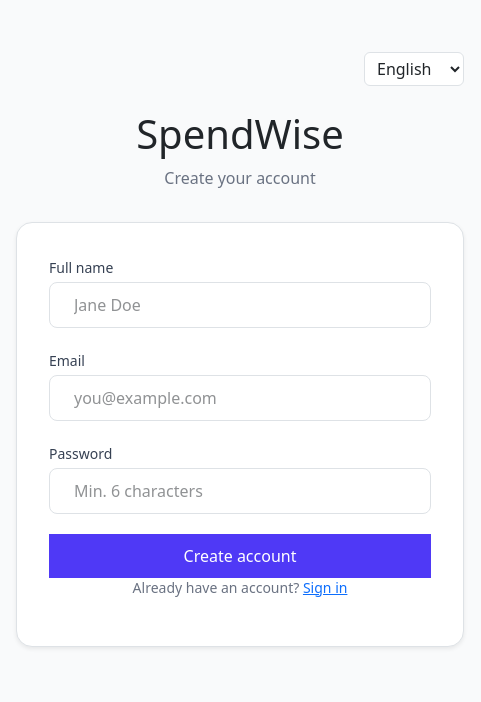
Test: RegisterPage › shows the success notice and schedules the redirect on success
Type "Jane" into the field with placeholder "Jane Doe" at (240, 304), box [49,282,431,328]
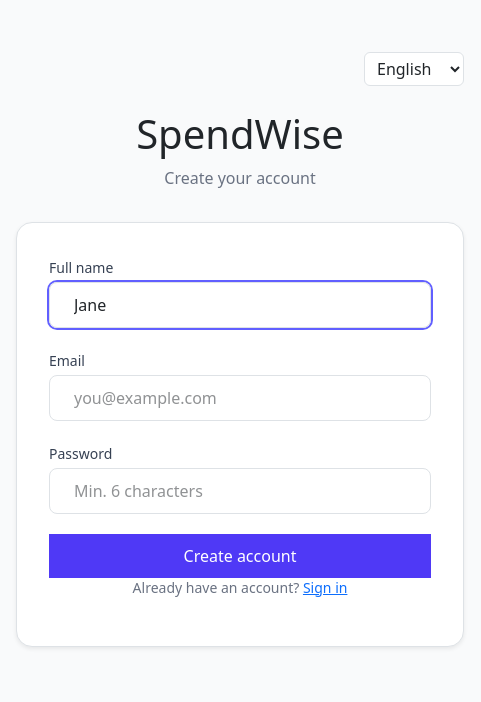
Type "a@b.com" into the field with placeholder "you@example.com" at (240, 398), box [49,374,431,420]
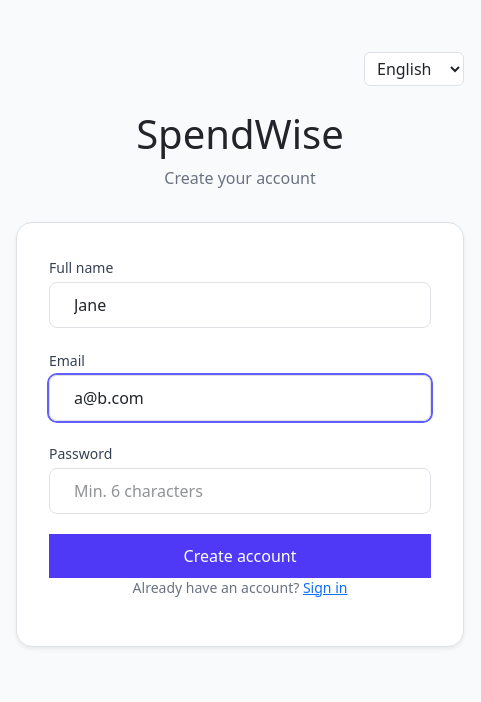
Type "secret1" into the password field with placeholder "Min. 6 characters" at (240, 490), box [49,468,431,514]
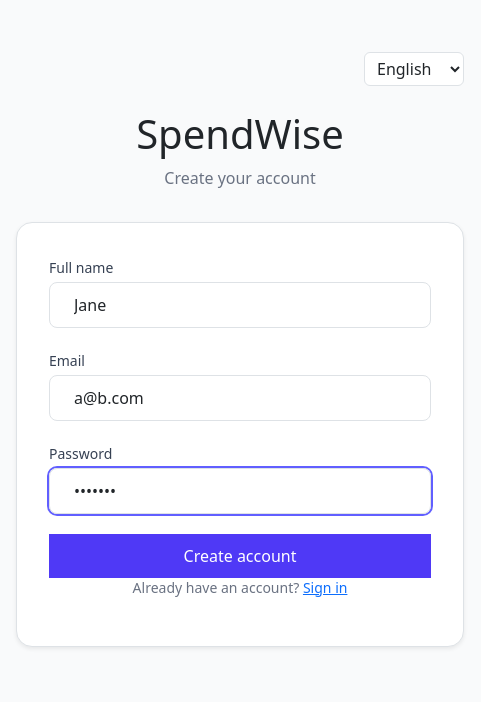
Click the button "Create account" at (240, 556), box [49,534,431,578]
Wait 3000 ms
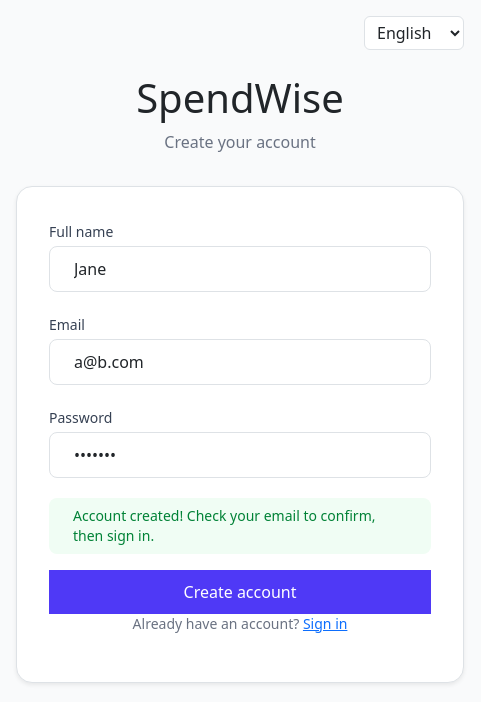
Expected: the text "Account created! Check your email to confirm, then sign in." is shown, [49,498,431,554]
